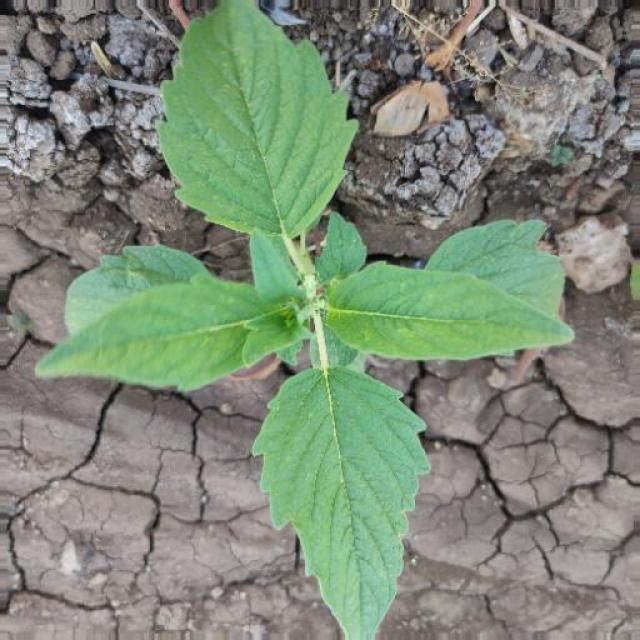crop: (34, 4, 586, 640)
